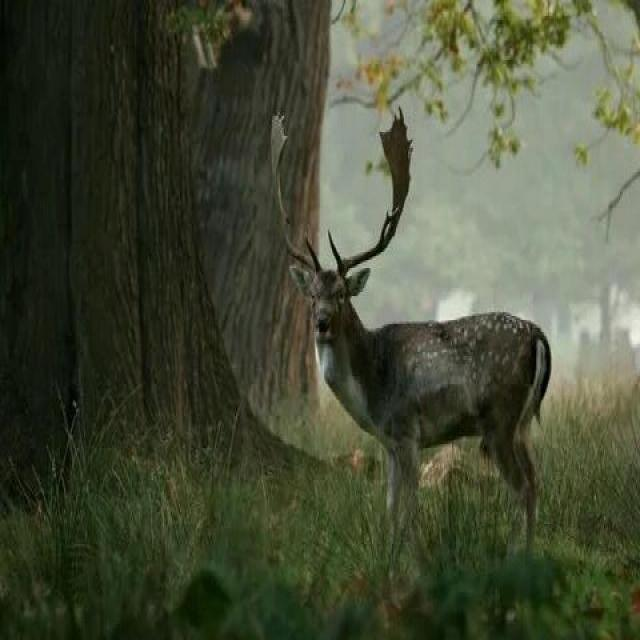deer: (245, 77, 574, 564)
